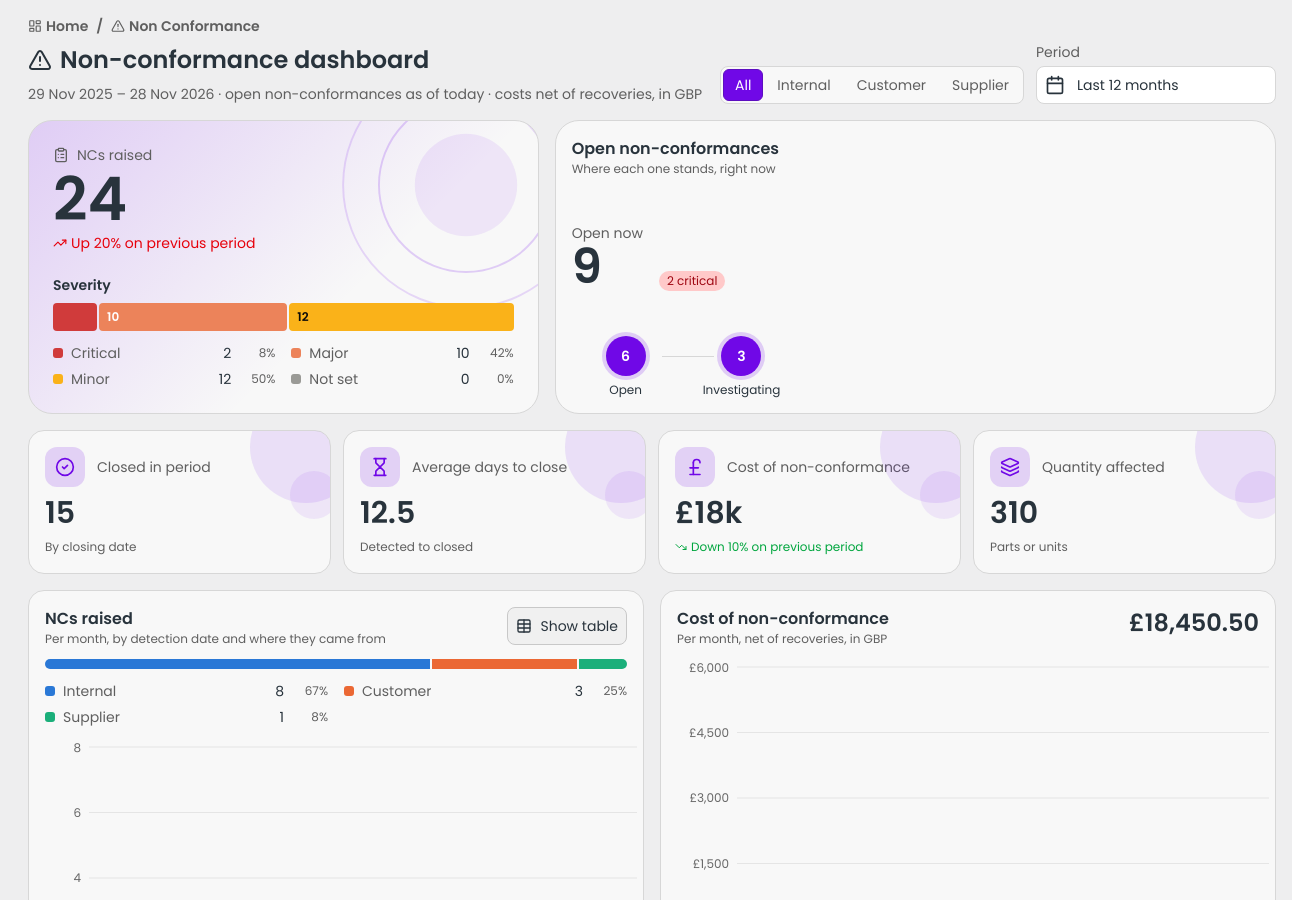
Test: NC dashboard › offers the trend as a table and lists failure modes, stages, severity and parts
Expected: the link "NCs raised" is shown, top-left (28, 120), bottom-right (539, 414)
Click the button "Show table". click: (567,626)
box: top-left (508, 607), bottom-right (627, 645)
(page scrolled)
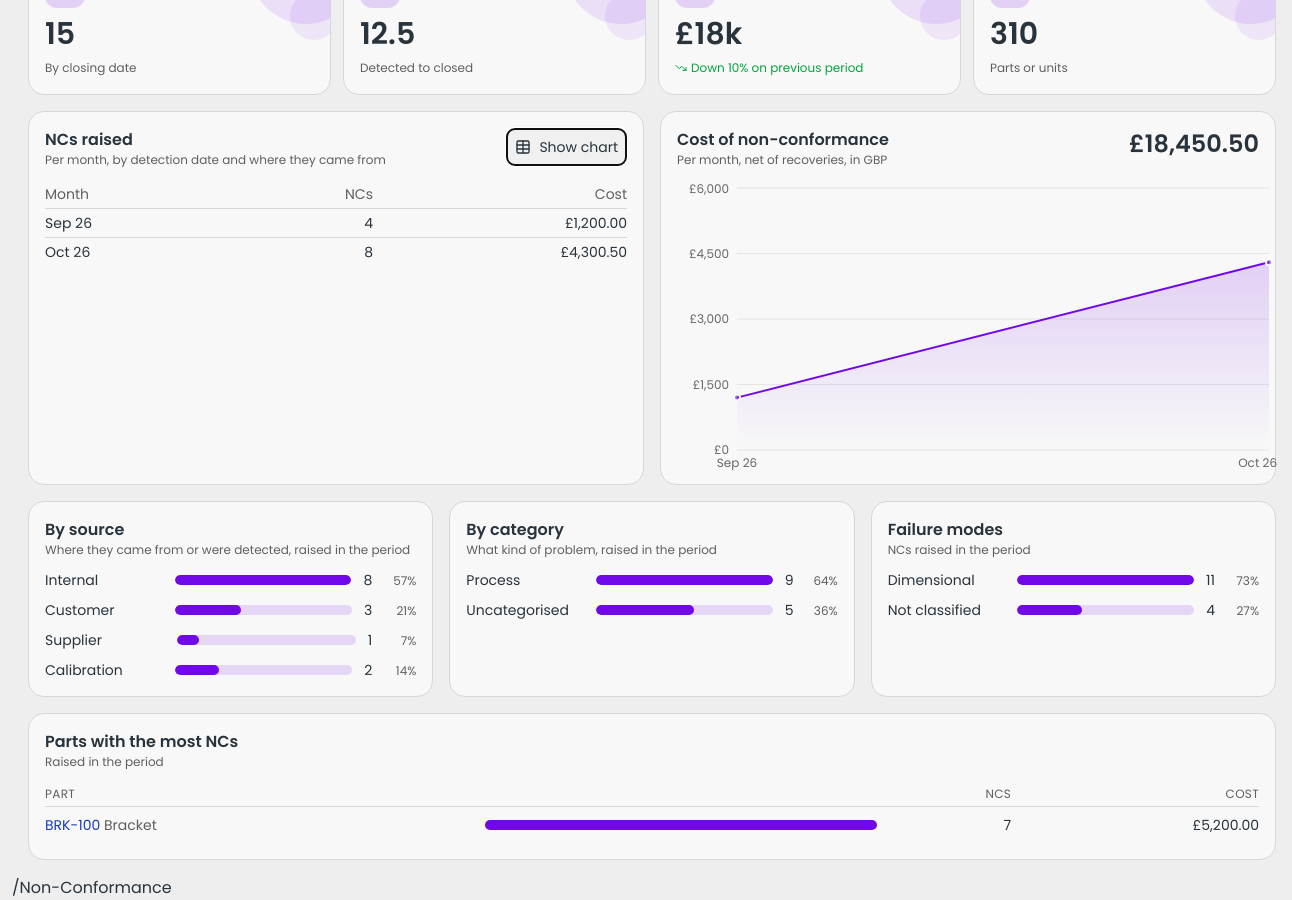
Expected: the text "Oct 26" is shown, top-left (45, 238), bottom-right (248, 266)
Now the text "£4,300.50" is shown, box top-left (381, 238), bottom-right (627, 266)
